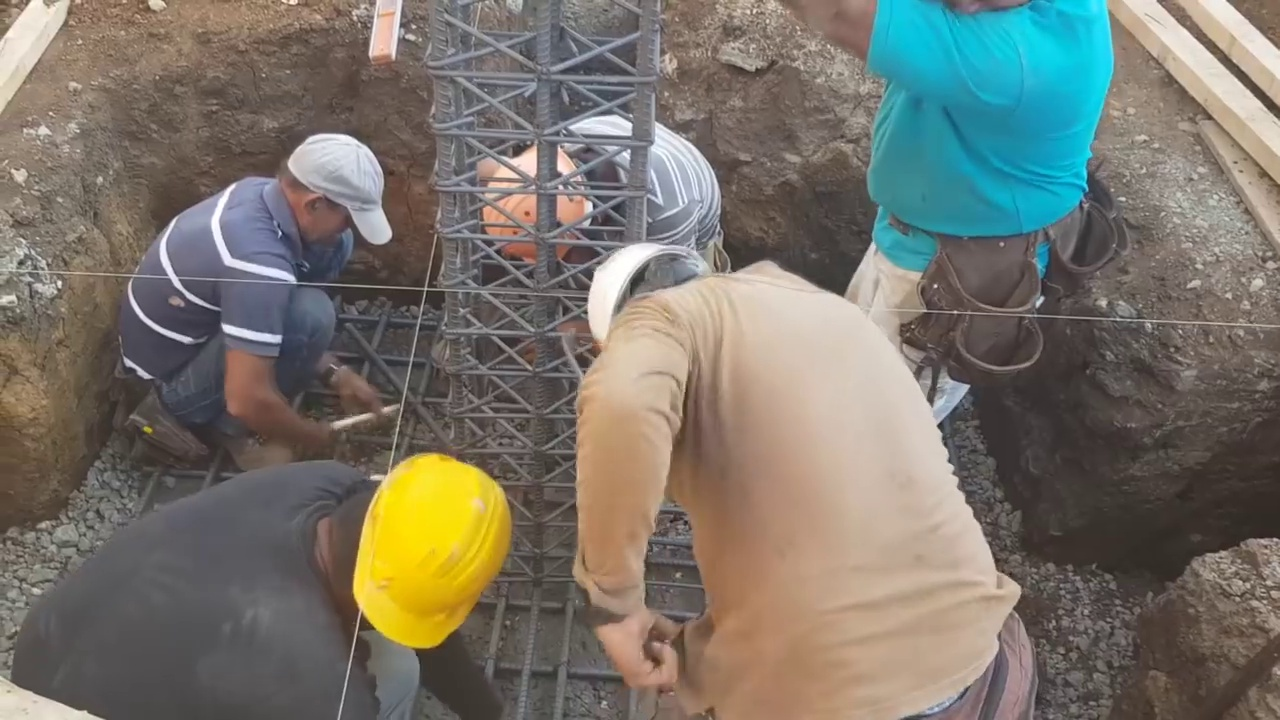helmet: (342, 448, 509, 647), (579, 241, 703, 350), (472, 151, 594, 250)
helmet-off: (276, 134, 391, 252)
helmet-on: (296, 442, 519, 647), (471, 142, 625, 260), (582, 245, 716, 358)
person: (545, 239, 1043, 720), (2, 441, 514, 720), (824, 0, 1151, 420), (125, 128, 415, 453), (469, 111, 721, 266)
